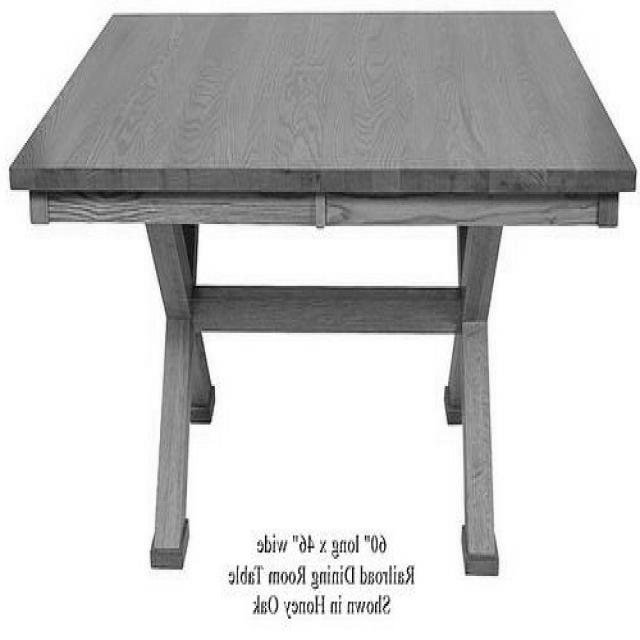table: (8, 11, 634, 574)
